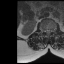CCS_normal: (47, 27, 49, 35)
LFS_normal: (51, 27, 53, 34)
LLS_normal: (49, 27, 51, 35)
RFS_normal: (43, 27, 45, 34)
RLS_normal: (45, 27, 47, 34)
